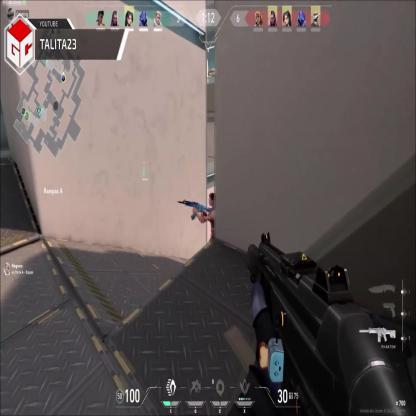enemy: (177, 194, 227, 302)
enemy_head: (208, 192, 216, 206)
